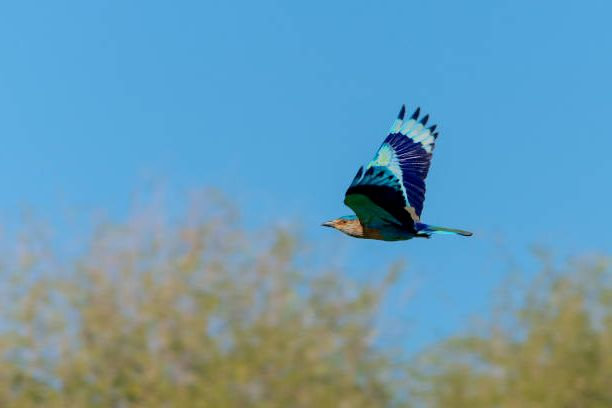Bird: (316, 99, 479, 246)
